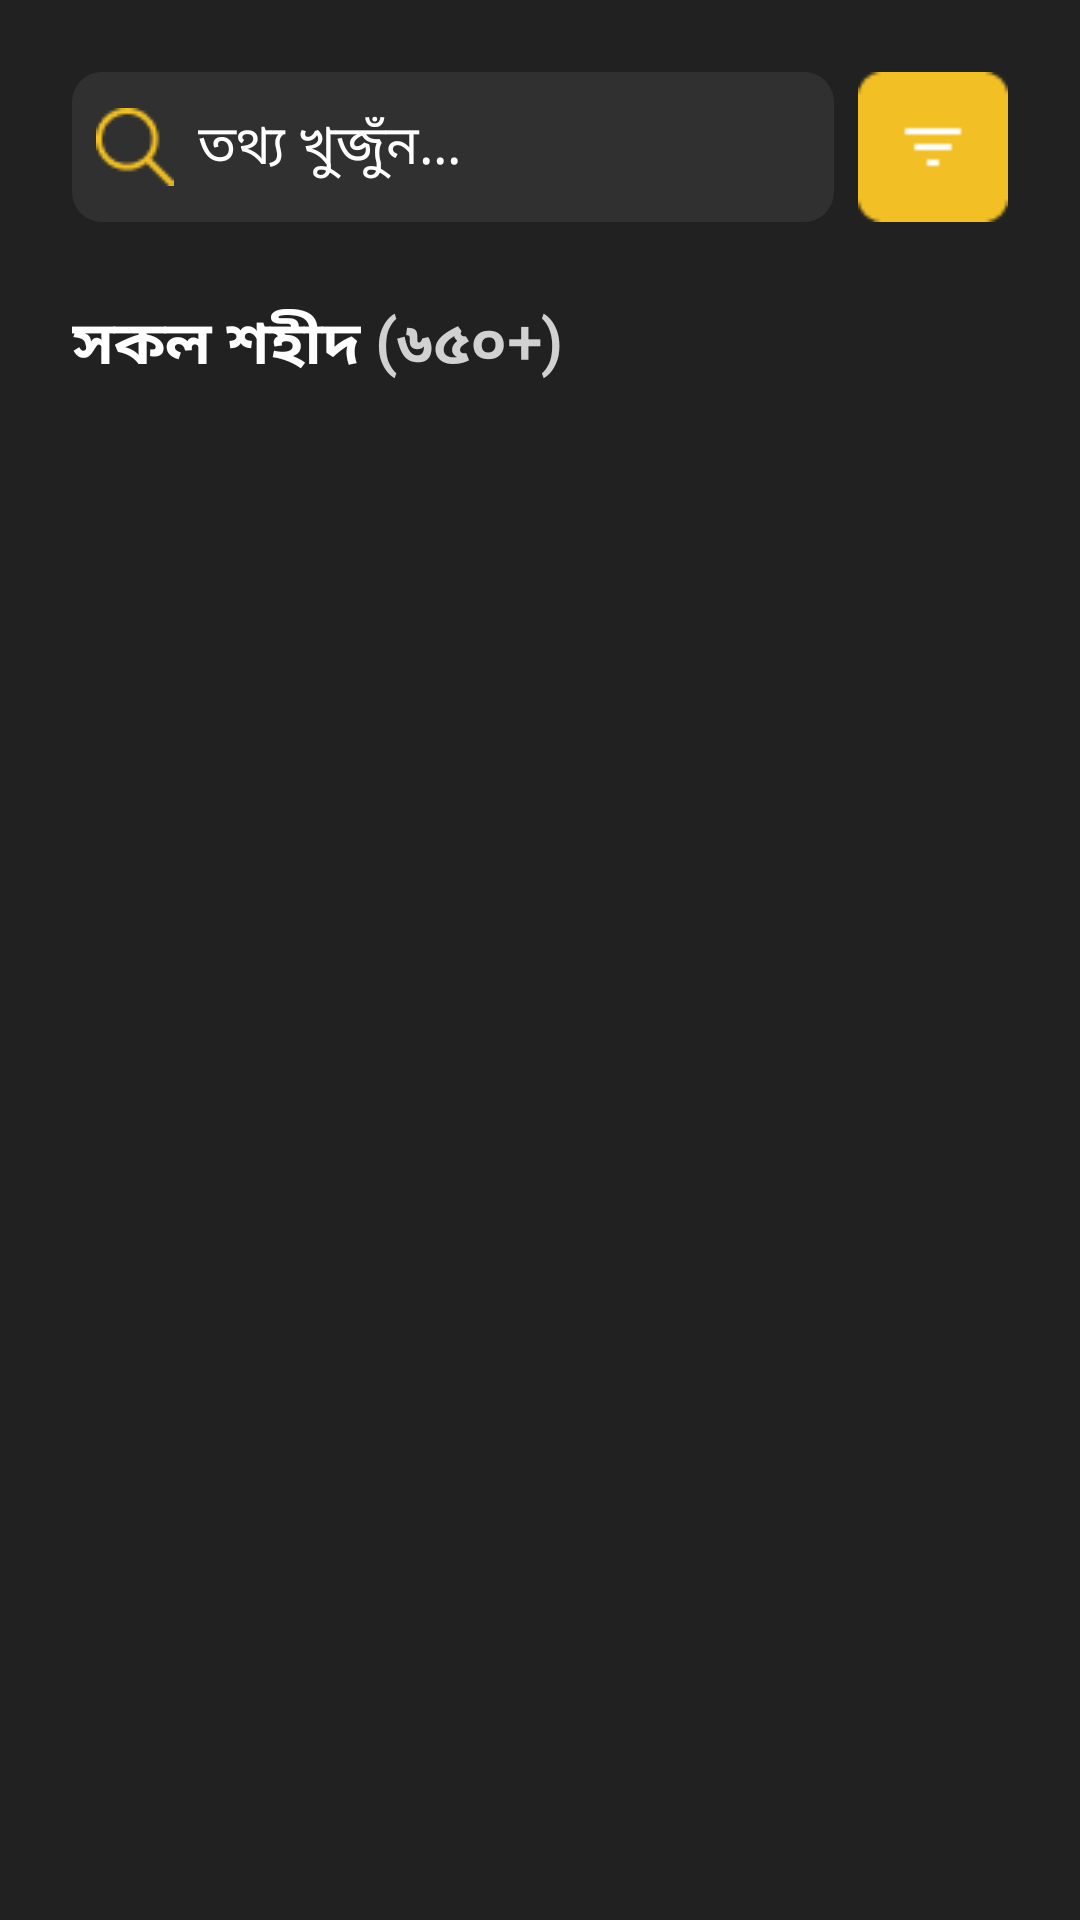

Screen size 1080px x 1920px. Icon name, then its box in pixels as (x1, y1, x2, y2):
fileter: (858, 72, 1008, 222)
